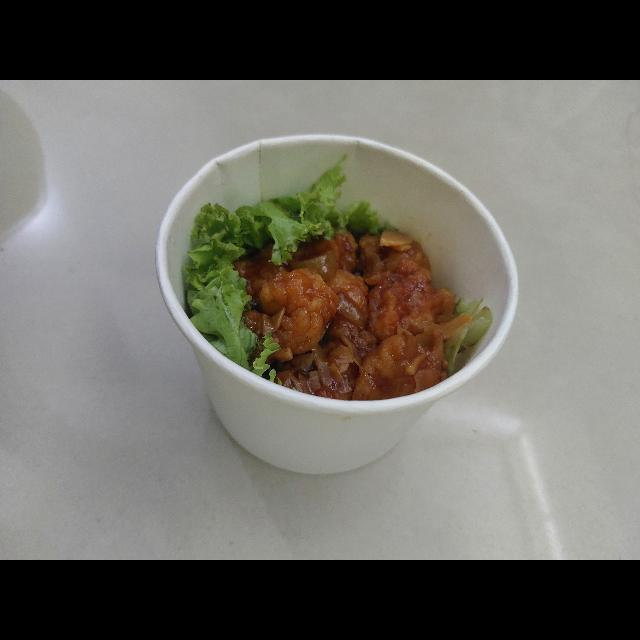rice-bowl: (142, 125, 534, 493)
